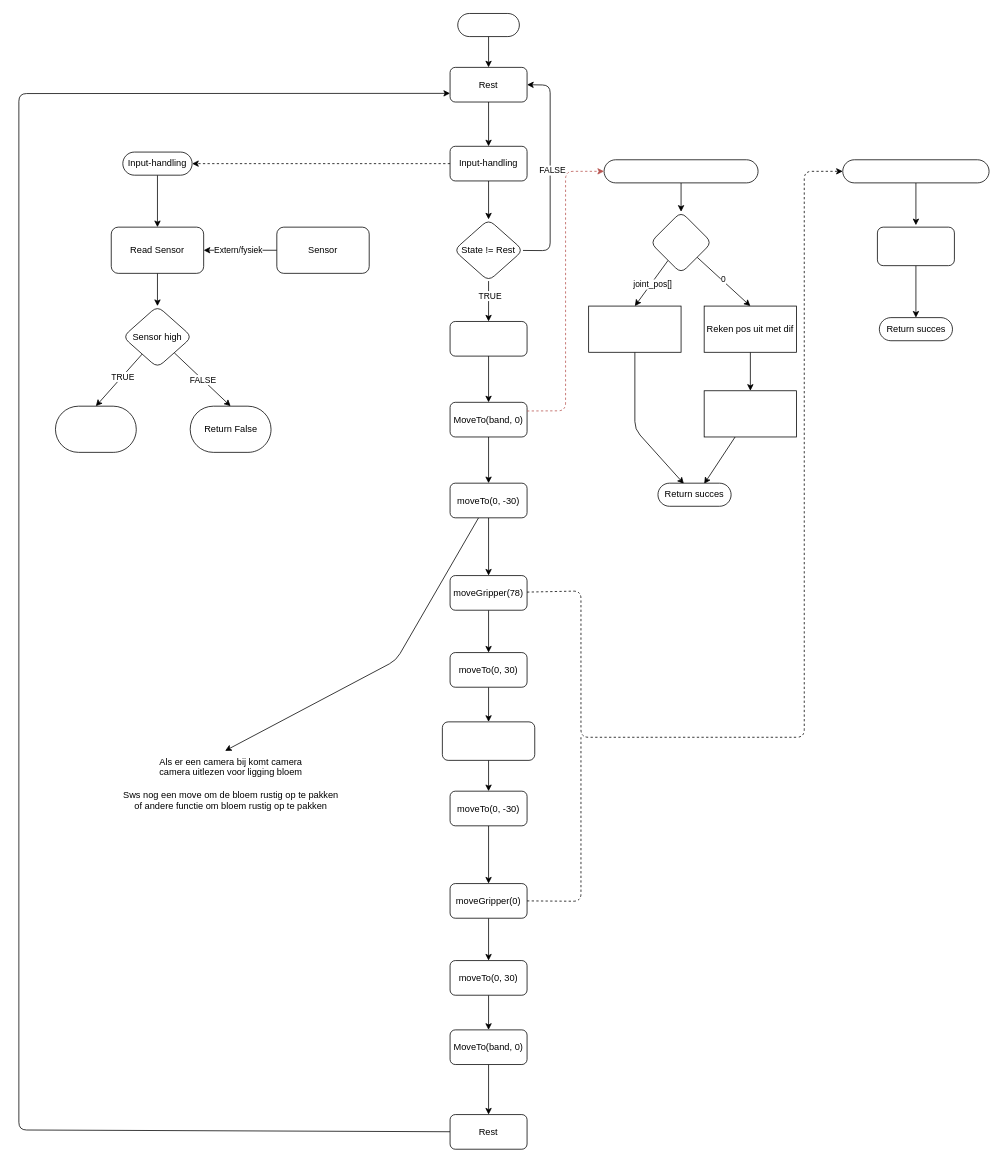
This 1003x1163 diagram has some shape labels left out. The centre of each missing label's shape, as x and y in pixels:
"Gripper aansturen(pos)" goes at point 915,171.
"Link return aan cords" goes at point 488,338.
"moveCart(new pos)" goes at point 750,413.
"moveGripper(pos)" goes at point 915,246.
"moveJ(joint_pos)" goes at point 634,328.
"moveTo" goes at point 680,242.
"moveTo(eindstation, 0)" goes at point 488,740.
"MoveTo(moveTo, dif)" goes at point 680,171.
"Return True" goes at point 95,428.
"Start" goes at point 488,25.
